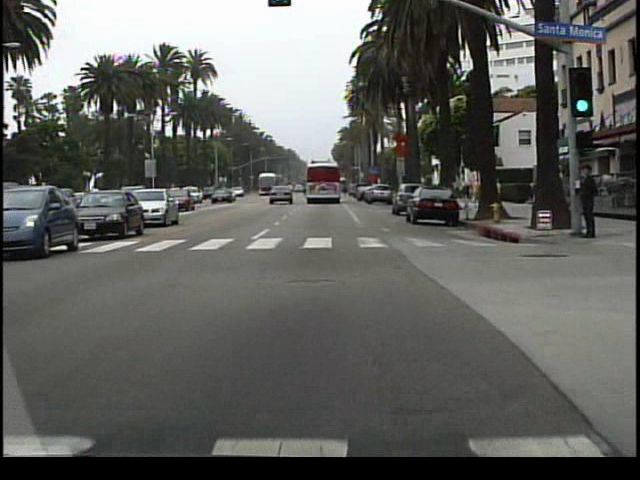person: (573, 158, 599, 242)
